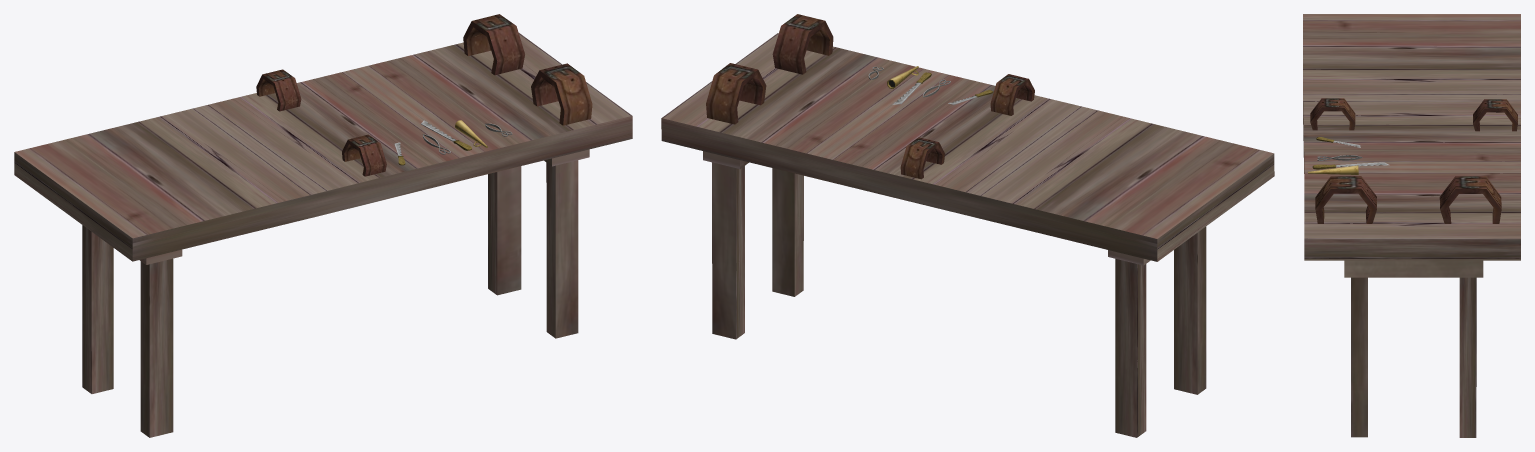
Rendered from shop_doctor_table.fbx.
3 renders of one model, left to right at view 1: azimuth 30°, elevation 25°; view 2: azimuth 150°, elevation 25°; view 3: azimuth 270°, elevation 25°, orthographic. The views are drawn at different scales.
Parts seen in each view (by area): view 1: table_mesh, strap3, strap4, strap2, strap1, tools; view 2: table_mesh, strap4, strap3, strap2, strap1, tools; view 3: table_mesh, strap4, strap3, tools, strap1, strap2.
Part boxes in pixels (bbox=[...]): table_mesh: bbox=[14, 33, 632, 437]; strap3: bbox=[531, 63, 592, 125]; strap4: bbox=[463, 14, 524, 75]; strap2: bbox=[256, 69, 301, 111]; strap1: bbox=[342, 134, 386, 176]; tools: bbox=[394, 120, 512, 165]; table_mesh: bbox=[661, 33, 1274, 437]; strap4: bbox=[706, 63, 766, 124]; strap3: bbox=[772, 14, 833, 74]; strap2: bbox=[900, 137, 945, 179]; strap1: bbox=[990, 74, 1034, 115]; tools: bbox=[868, 66, 993, 104]; table_mesh: bbox=[1303, 14, 1520, 437]; strap4: bbox=[1439, 176, 1501, 223]; strap3: bbox=[1315, 176, 1376, 223]; tools: bbox=[1308, 137, 1389, 174]; strap1: bbox=[1310, 98, 1355, 130]; strap2: bbox=[1473, 99, 1517, 131].
Size of the model in its own units: 680 by 347 by 278.
Materials: 1 (1 with a texture image).
